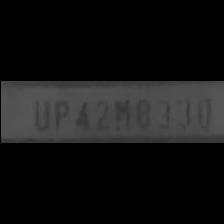0: (189, 94, 213, 128)
2: (88, 95, 108, 131)
4: (71, 96, 95, 130)
8: (130, 96, 154, 130)
M: (110, 95, 130, 131)
P: (50, 98, 70, 132)
U: (28, 96, 50, 132)
